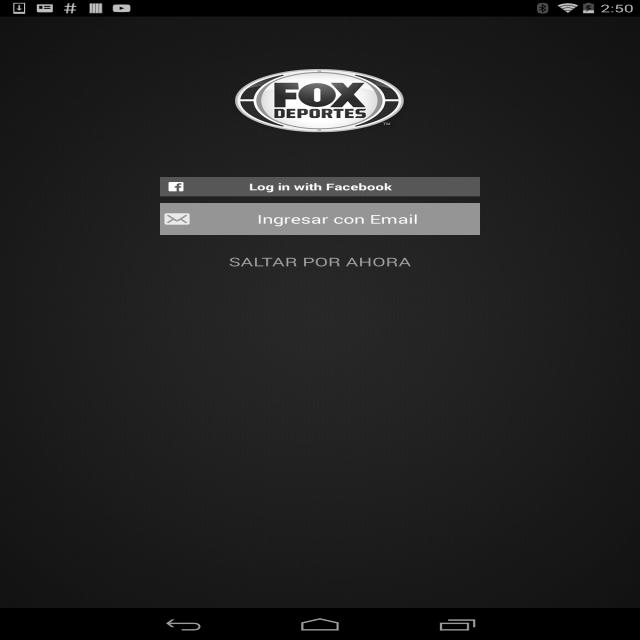Button: (153, 203, 489, 240), (154, 172, 492, 200)
ImageView: (229, 71, 422, 140)
TextView: (213, 249, 428, 271)
